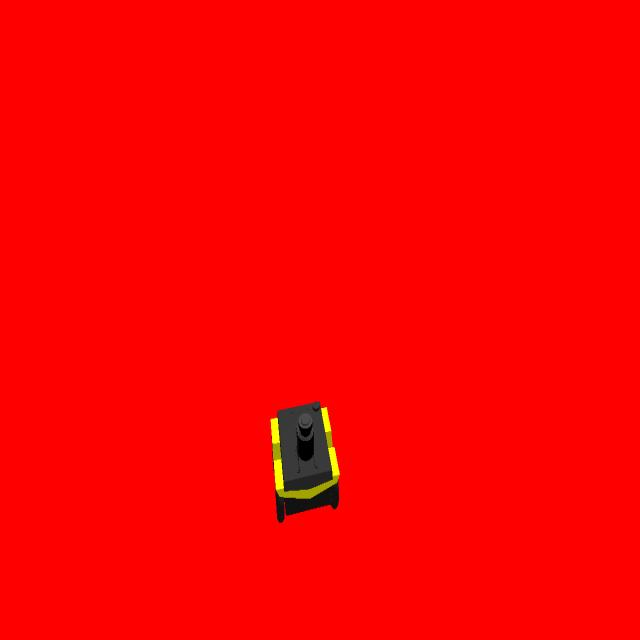jackal: (268, 399, 340, 524)
